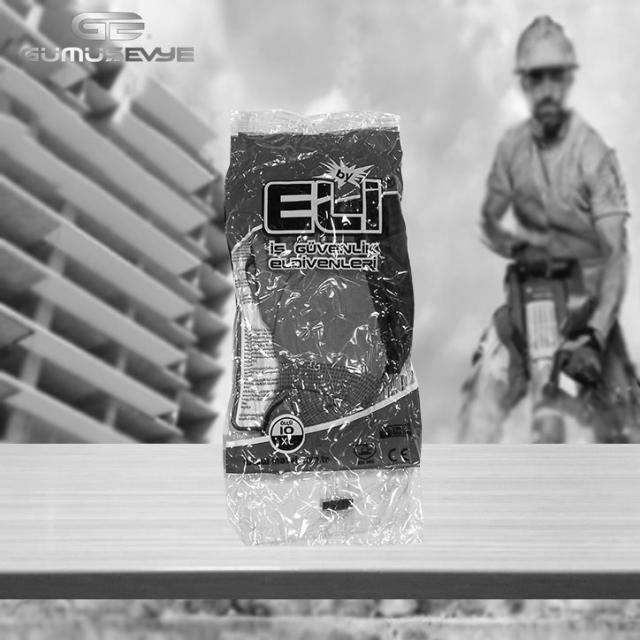safety_helmet: (512, 14, 583, 80)
